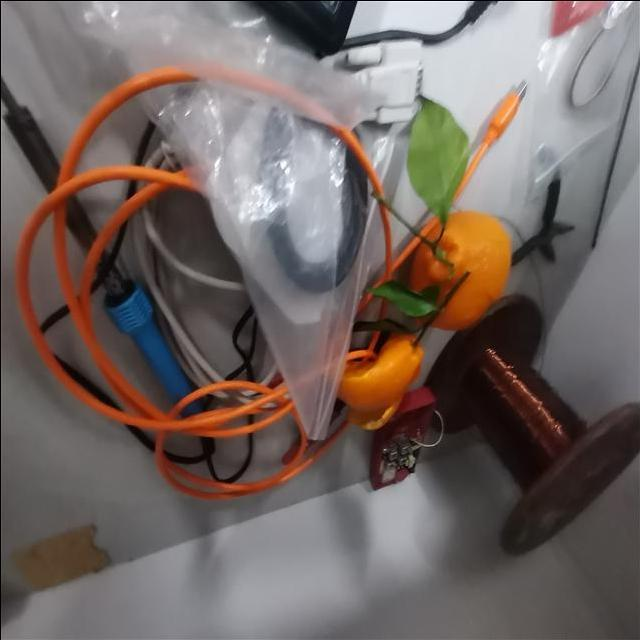orange peel: (413, 210, 510, 336), (338, 326, 424, 437)
